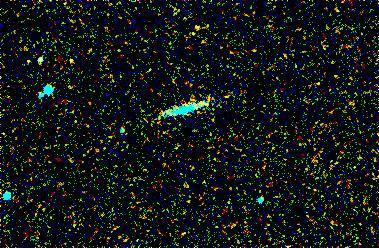star: (53, 49, 83, 79)
